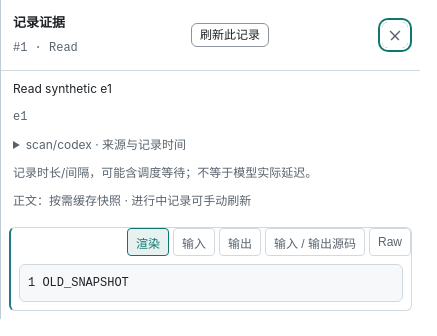
Test case: WB-002 selected record inspector › refreshes only the selected snapshot without replaying Agent traffic or fetching Raw implicitly
The image size is (437, 336).
Click the button "刷新此记录".
click(230, 35)  # box [191,23,269,47]
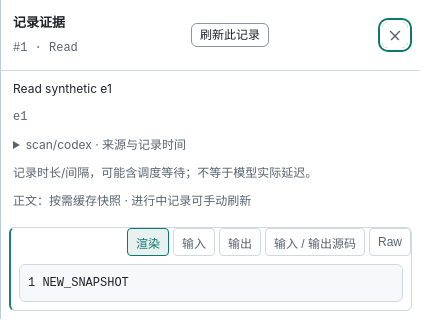
Expected: the text "NEW_SNAPSHOT" is shown, [28,276,129,290]
Expected: the text "OLD_SNAPSHOT" is gone
